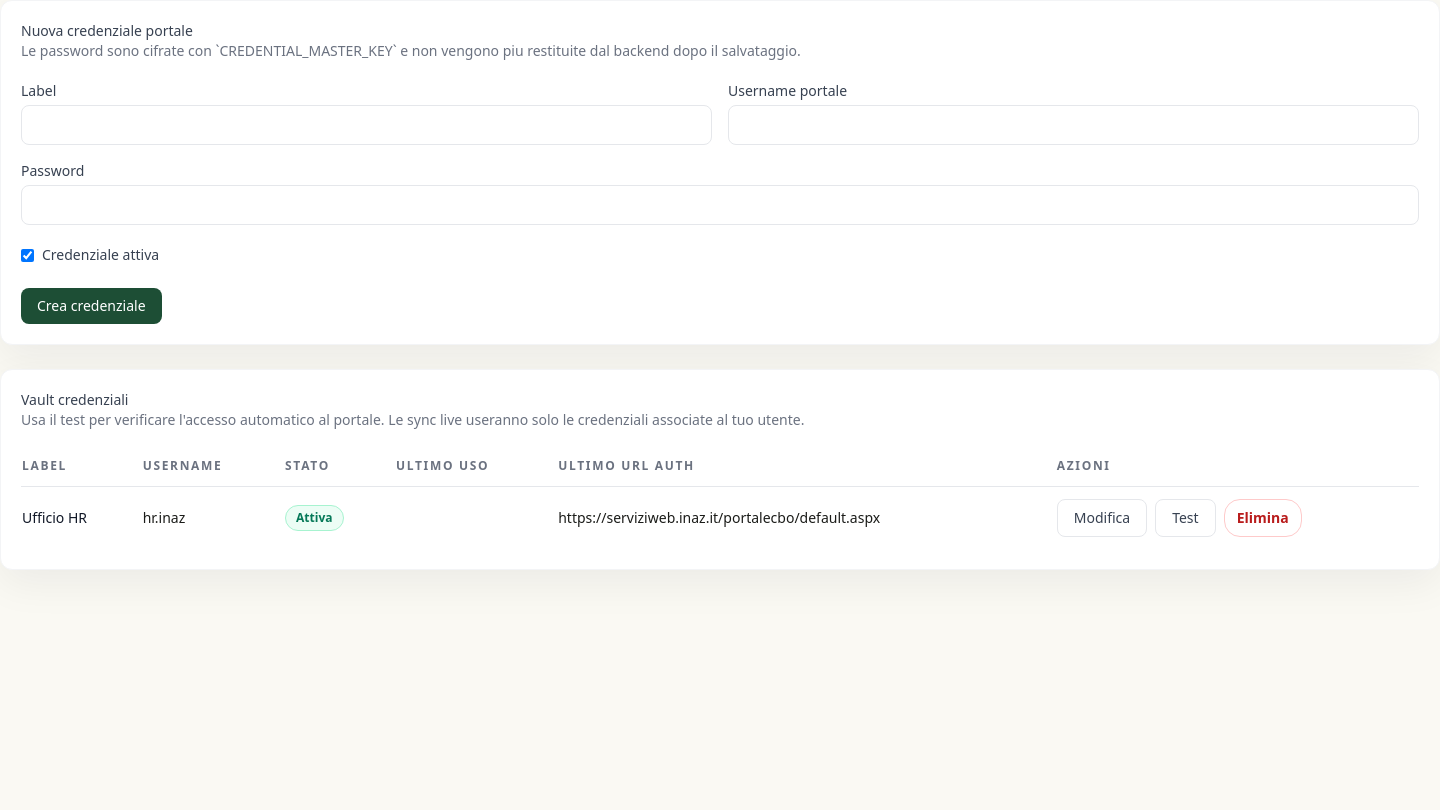
Test: PresenzeCredentialVault › creates a portal credential
Expected: the text "Ufficio HR" is shown, [21,486,142,548]
Type "Admin Presenze" into the field labelled "Label".
click(366, 125); type("Admin Presenze")  # box [21,105,712,145]
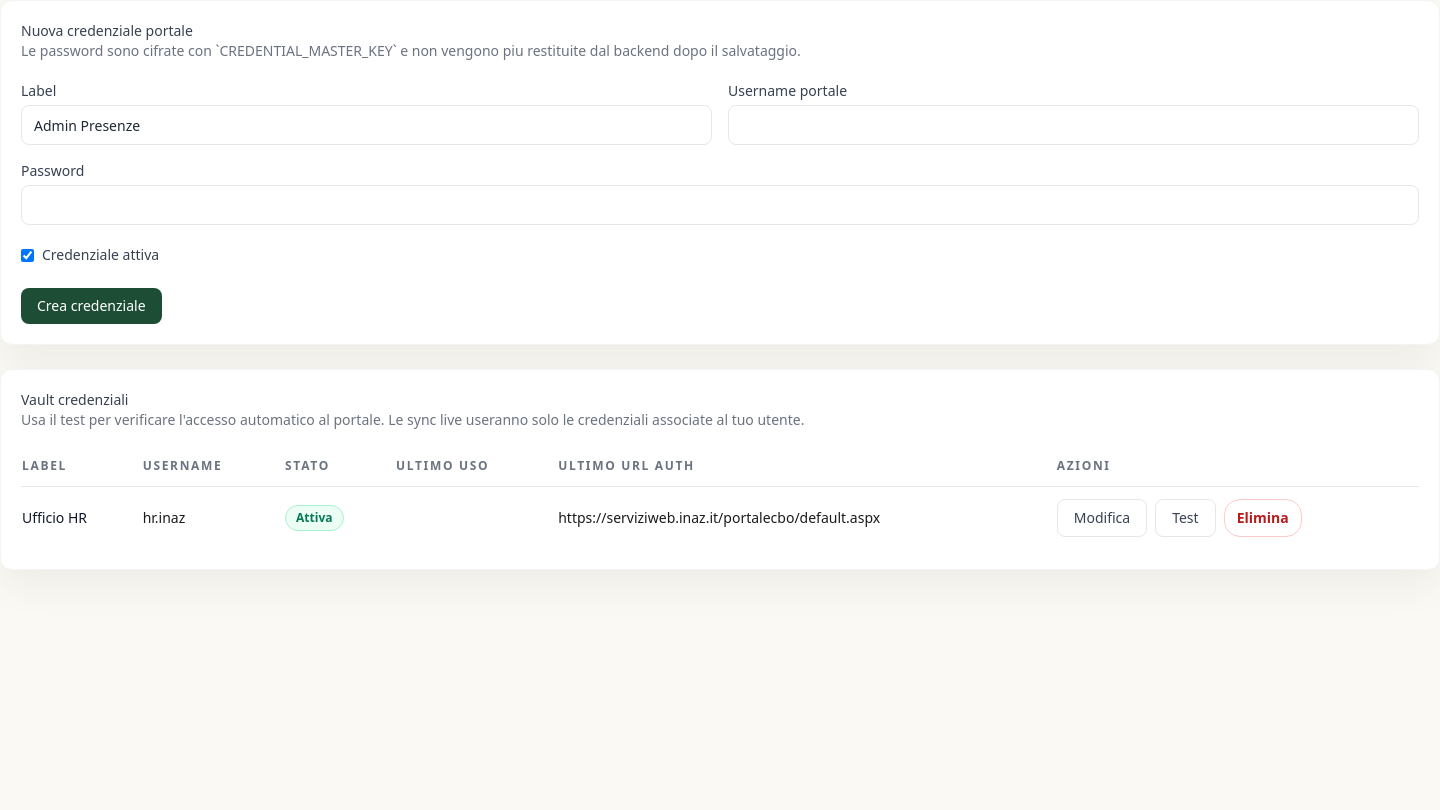
Type "admin.inaz" into the field labelled "Username portale".
click(1074, 125); type("admin.inaz")  # box [728,105,1419,145]
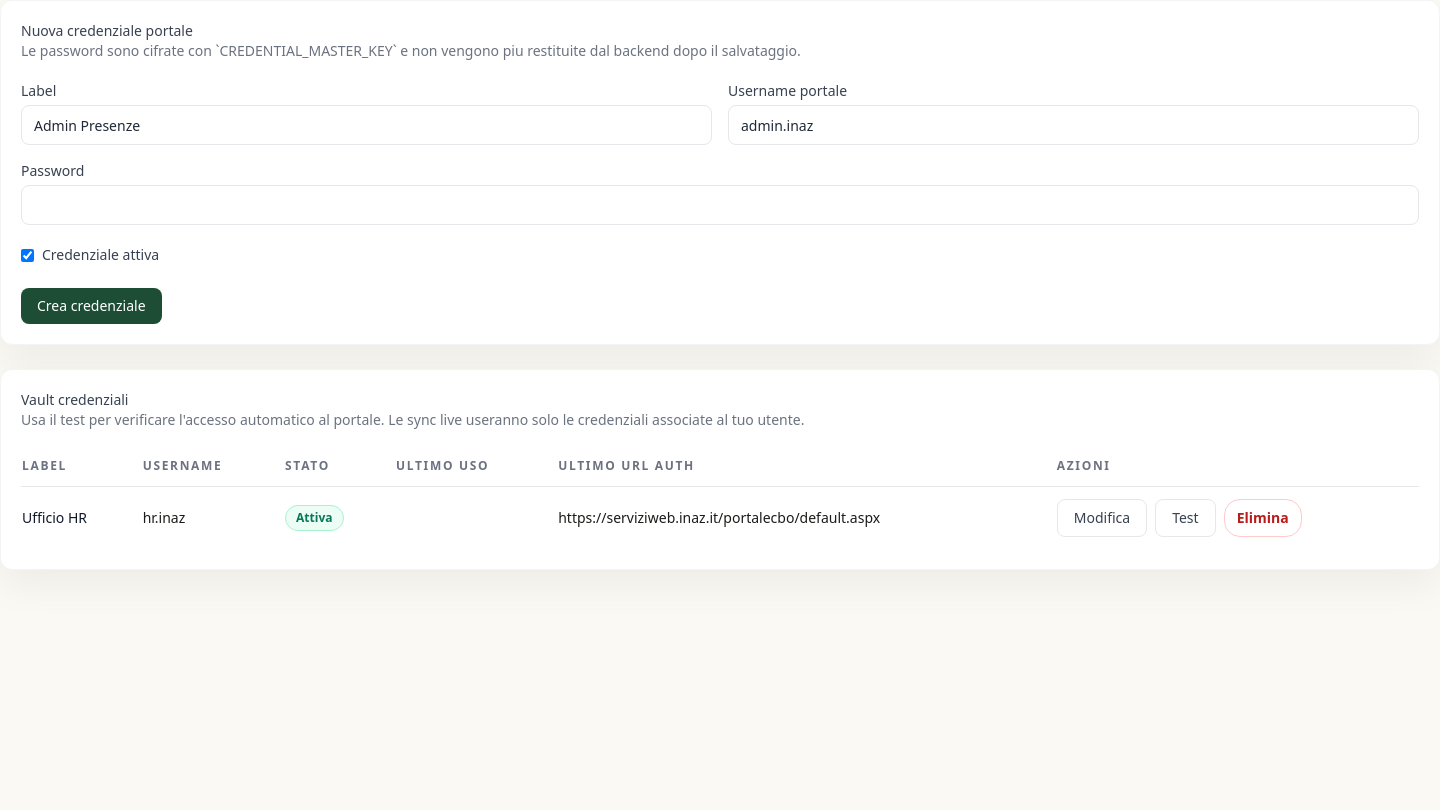
Type "secret123" into the password field labelled "Password".
click(720, 205); type("secret123")  # box [21,185,1419,225]
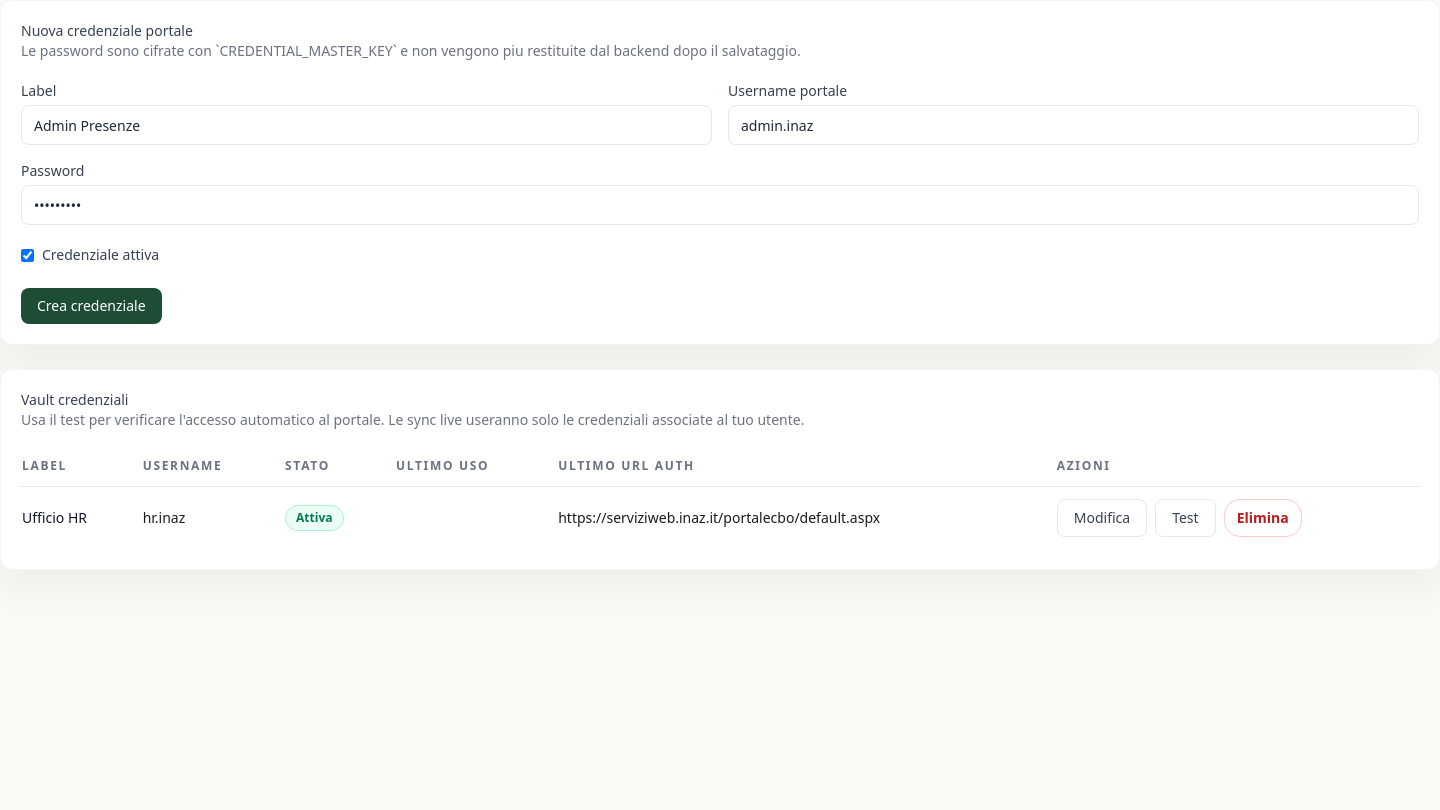
Click the checkbox labelled "Credenziale attiva".
click(28, 255)  # box [21,248,34,262]
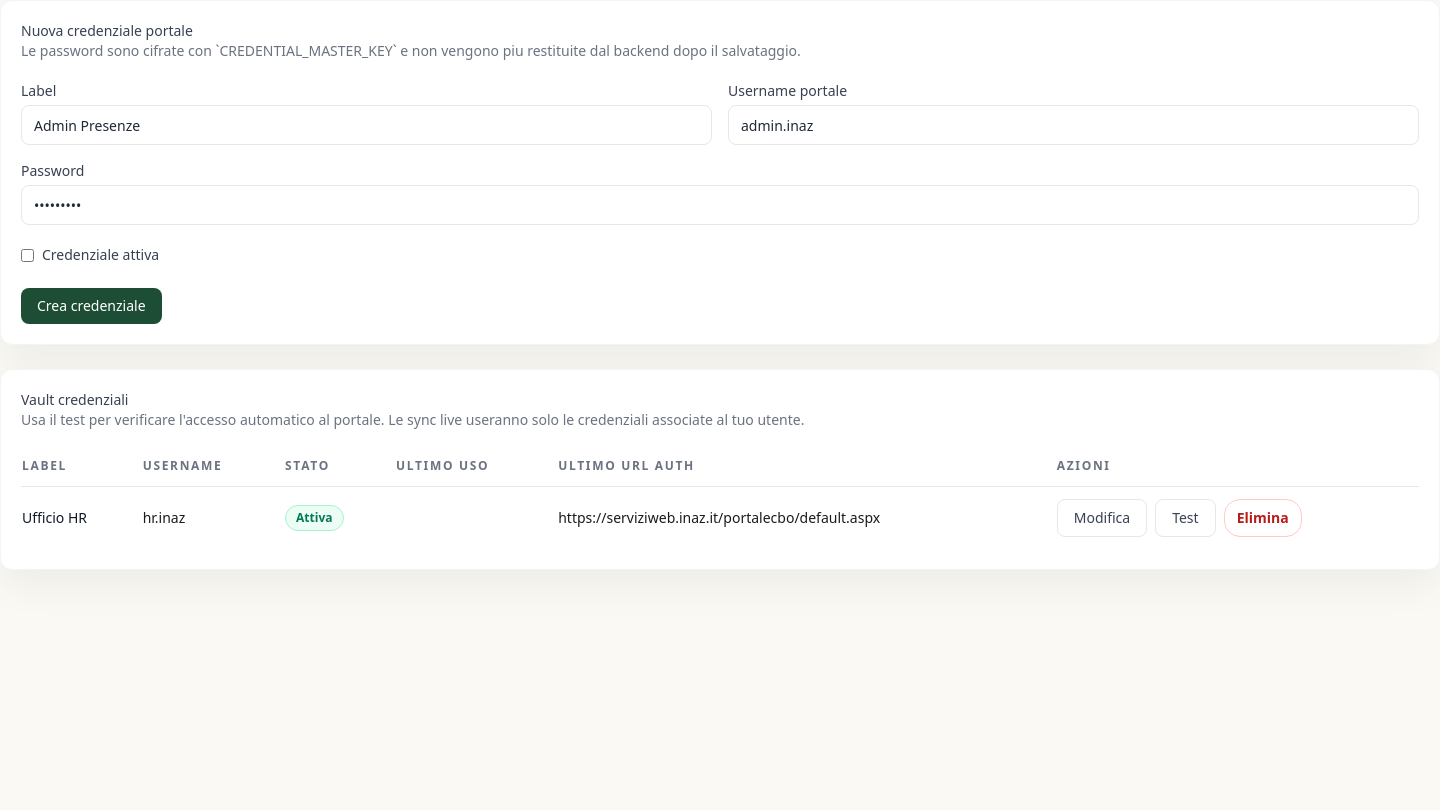
Click the button "Crea credenziale".
click(91, 306)  # box [21,288,162,324]
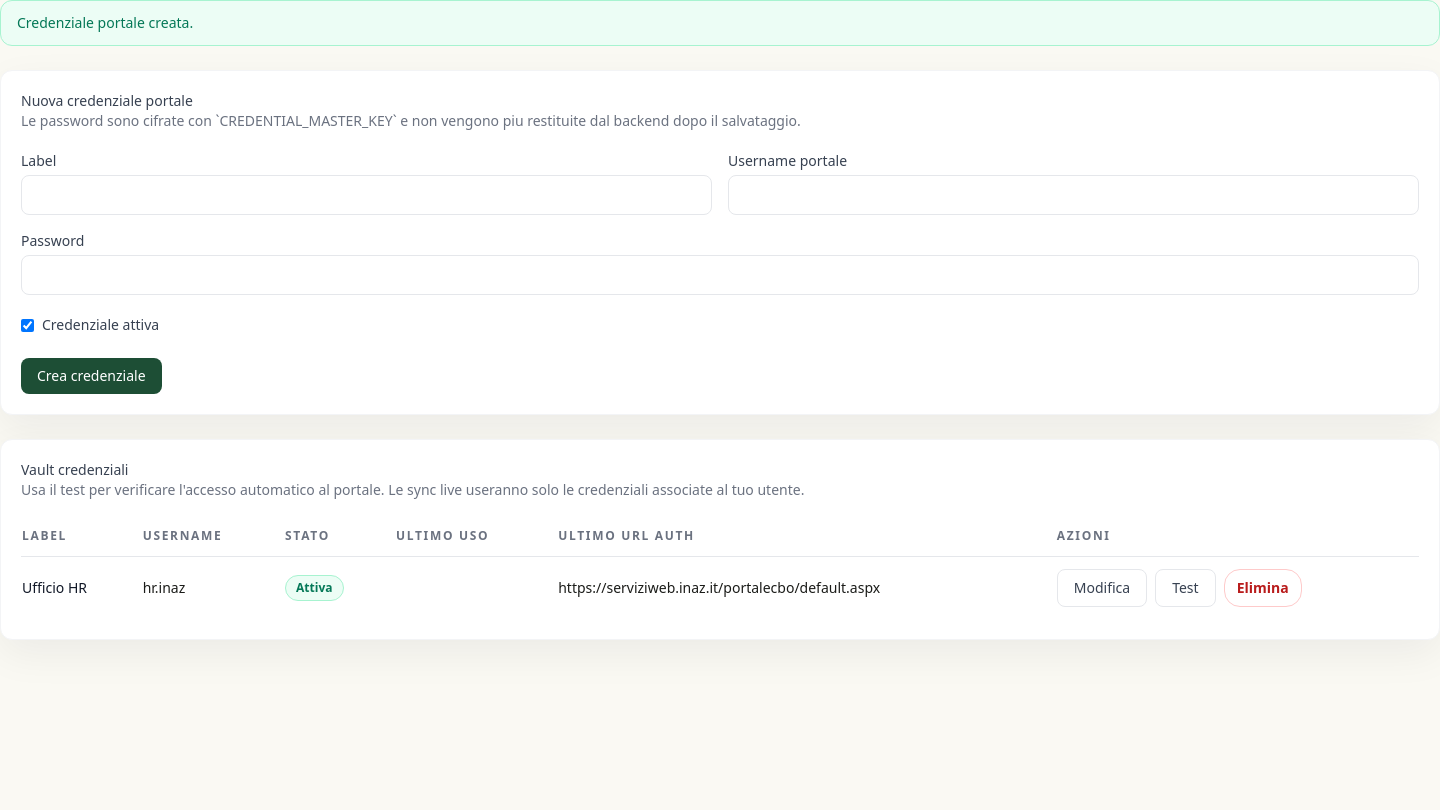
Expected: the text "Credenziale portale creata." is shown, [0,0,1439,46]
